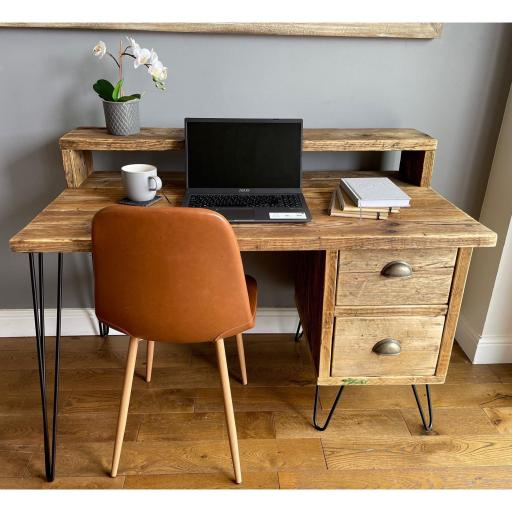table: (6, 161, 474, 454)
